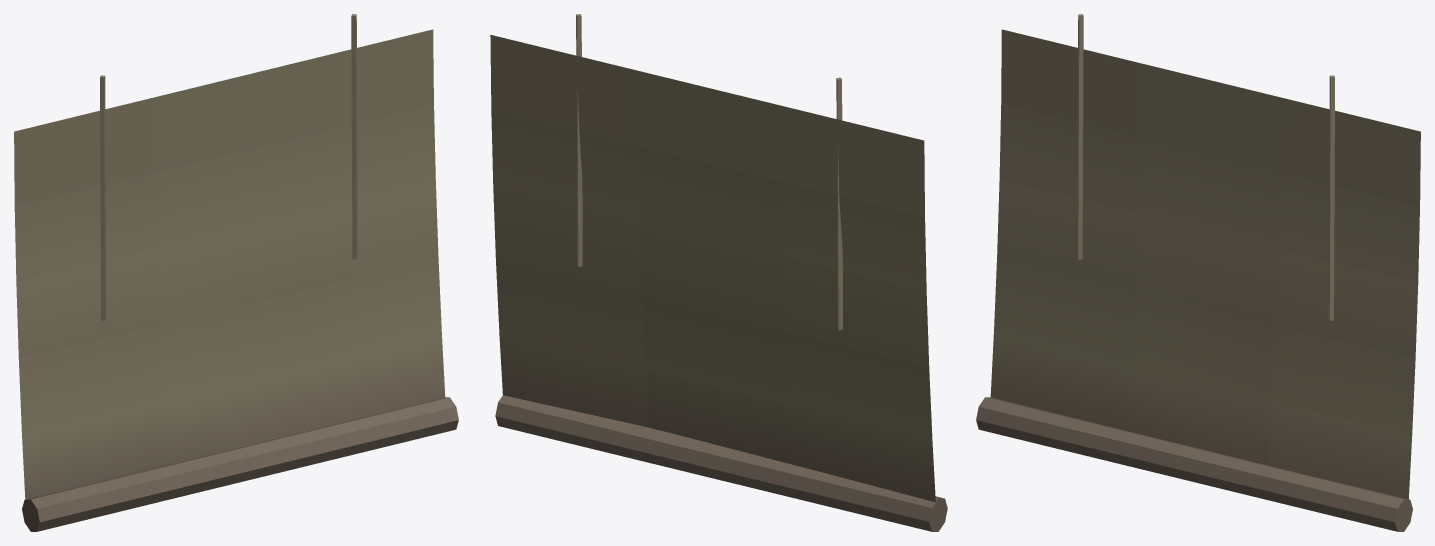
Rendered from prop_sudare.glb.
3 renders of one model, left to right at view 1: azimuth 30°, elevation 25°; view 2: azimuth 150°, elevation 25°; view 3: azimuth 330°, elevation 25°, orthographic. The views are drawn at different scales.
Parts seen in each view (by area): view 1: prop_sudare; view 2: prop_sudare; view 3: prop_sudare.
Part boxes in pixels (box(x1,y1,x2,y2)): prop_sudare: box(14, 14, 458, 531); prop_sudare: box(490, 14, 947, 531); prop_sudare: box(976, 14, 1420, 531).
Bounding box in the file's own units: 0.92 × 0.894 × 0.098.
